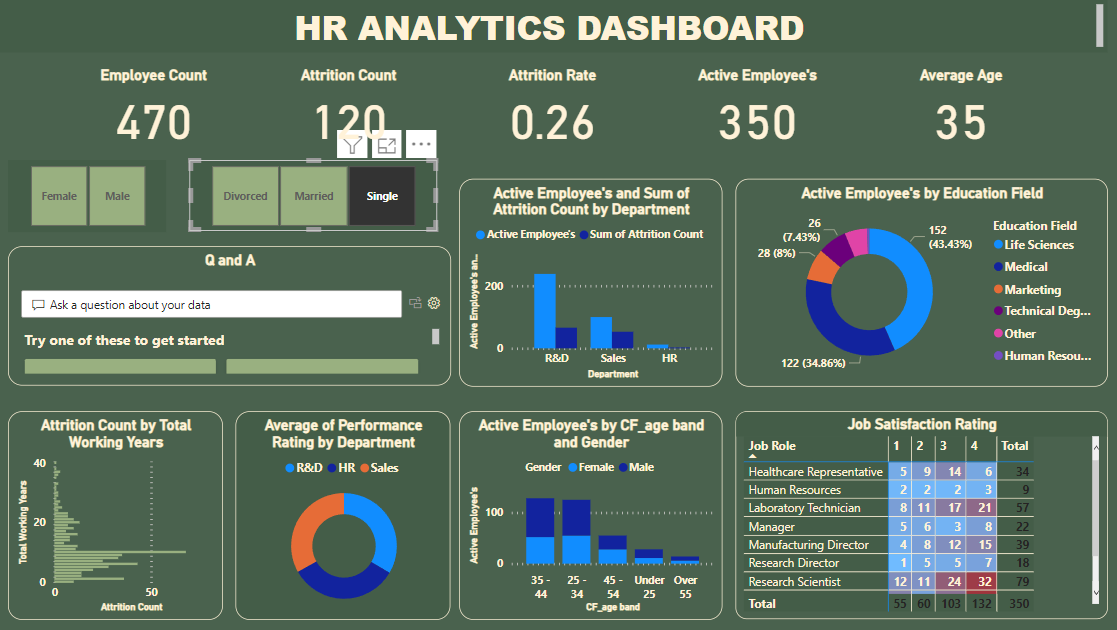

The page's visual inventory and layout, read from the dashboard file:
{"tool":"powerbi","page":{"name":"Page 1","canvas":[1280,720],"ordinal":0},"visuals":[{"type":"card","title":"Employee Count","fields":{"Values":["Sum(HR data.Employee Count)"]},"box":[96.1,75.5,164.7,94.7],"z":0,"group":"g1"},{"type":"card","title":"Attrition Count","fields":{"Values":["Sum(HR data.Attrition Count)"]},"box":[318.9,76,164.7,94.7],"z":1000,"group":"g1"},{"type":"card","title":"Average Age","fields":{"Values":["Avg(HR data.Age)"]},"box":[1018.8,76,164.7,94.7],"z":2000,"group":"g1"},{"type":"card","title":"Active Employee''s","fields":{"Values":["HR data.Active Employee's"]},"box":[785.5,76,164.7,94.7],"z":3000,"group":"g1"},{"type":"card","title":"Attrition Rate","fields":{"Values":["HR data.Attrition Rate"]},"box":[552.2,76,164.7,94.7],"z":4000,"group":"g1"},{"type":"clusteredColumnChart","fields":{"Category":["HR data.Department"],"Y":["HR data.Active Employee's","Sum(HR data.Attrition Count)"]},"box":[526.9,204.5,300.5,237.4],"z":5000},{"type":"donutChart","fields":{"Y":["HR data.Active Employee's"],"Category":["HR data.Education Field"]},"box":[842.5,204.5,425.4,237.4],"z":6000},{"type":"columnChart","fields":{"Category":["HR data.CF_age band"],"Y":["HR data.Active Employee's"],"Series":["HR data.Gender"]},"box":[526.9,470.7,300.5,238.8],"z":7000},{"type":"pivotTable","title":"Job Satisfaction Rating","fields":{"Rows":["HR data.Job Role"],"Values":["HR data.Active Employee's"],"Columns":["HR data.Job Satisfaction"]},"box":[842.5,470.7,425.4,237.4],"z":8000},{"type":"donutChart","fields":{"Y":["Avg(HR data.Performance Rating)"],"Category":["HR data.Department"]},"box":[271.7,470.7,245.6,238.8],"z":9000},{"type":"qnaVisual","title":"Q and A","box":[11,281.3,506.3,159.2],"z":10000},{"type":"clusteredBarChart","title":" Attrition Count by Total Working Years","fields":{"Category":["HR data.Total Working Years"],"Y":["CountNonNull(HR data.Attrition Count)"]},"box":[11,470.7,245.6,238.8],"z":10001},{"type":"slicer","fields":{"Values":["HR data.Gender"]},"box":[11,182.5,181.1,82.3],"z":10002},{"type":"slicer","fields":{"Values":["HR data.Marital Status"]},"box":[218.2,182.5,282.7,82.3],"z":10003},{"type":"group","id":"g1","title":"Group 1","box":[96.1,75.5,1086.8,94.7],"z":10004},{"type":"textbox","box":[0,0,1267.9,60.4],"z":10005}]}

Visuals, with their boxes in screenshot pixels (x1, y1, x2, y2), scaled from the page's 1280x720 canvas onto the 1117x630 screenshot:
"Employee Count" card: x1=84 y1=66 x2=228 y2=149
"Attrition Count" card: x1=278 y1=66 x2=422 y2=149
"Average Age" card: x1=889 y1=66 x2=1033 y2=149
"Active Employee''s" card: x1=685 y1=66 x2=829 y2=149
"Attrition Rate" card: x1=482 y1=66 x2=626 y2=149
clusteredColumnChart - HR data.Department x HR data.Active Employee's: x1=460 y1=179 x2=722 y2=387
donutChart - HR data.Active Employee's x HR data.Education Field: x1=735 y1=179 x2=1106 y2=387
columnChart - HR data.CF_age band x HR data.Active Employee's: x1=460 y1=412 x2=722 y2=621
"Job Satisfaction Rating" pivotTable: x1=735 y1=412 x2=1106 y2=620
donutChart - Avg(HR data.Performance Rating) x HR data.Department: x1=237 y1=412 x2=451 y2=621
"Q and A" qnaVisual: x1=10 y1=246 x2=451 y2=385
" Attrition Count by Total Working Years" clusteredBarChart: x1=10 y1=412 x2=224 y2=621
slicer - HR data.Gender: x1=10 y1=160 x2=168 y2=232
slicer - HR data.Marital Status: x1=190 y1=160 x2=437 y2=232
"Group 1" group: x1=84 y1=66 x2=1032 y2=149
textbox: x1=0 y1=0 x2=1106 y2=53
